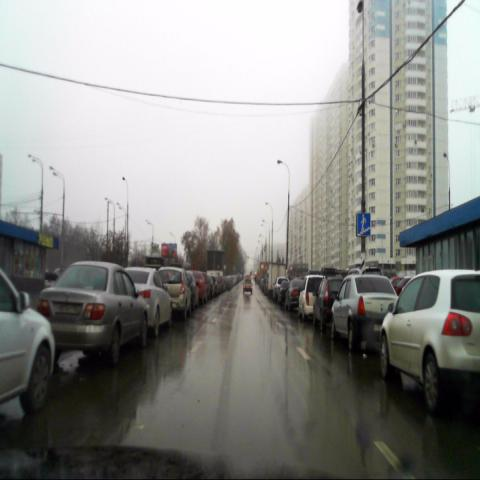6_6: (356, 212, 370, 236)
